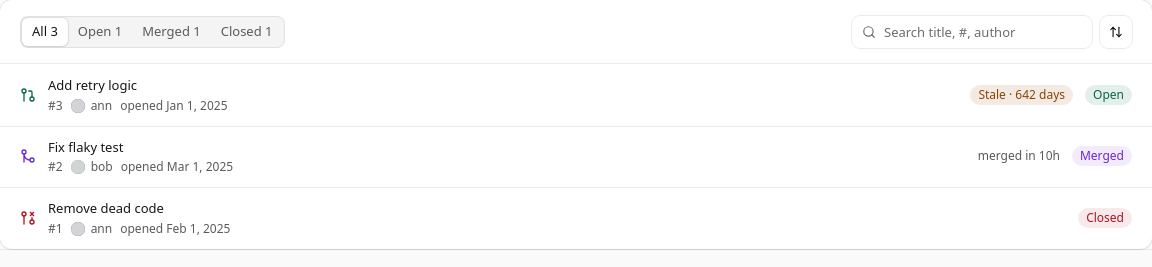
Test case: PullTable › searches by title, number and author
Type "dead" into the search field.
click(972, 32); type("dead")  # box x1=852 y1=16 x2=1092 y2=48
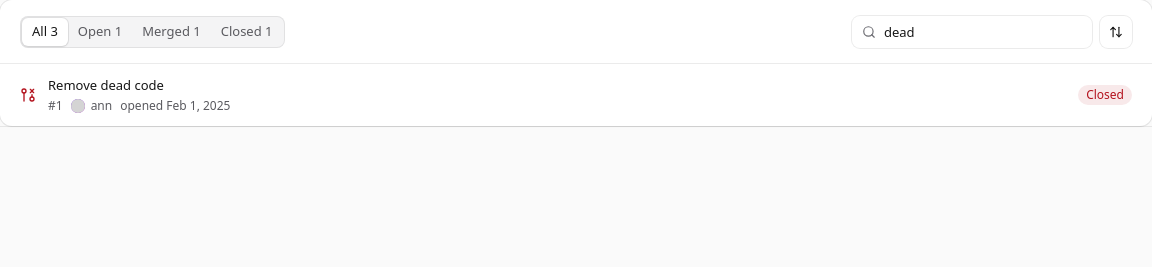
expect the number of links is 1: met, box x1=48 y1=76 x2=164 y2=94
Replace the text in the search field with "bob" at [972, 32], box x1=852 y1=16 x2=1092 y2=48
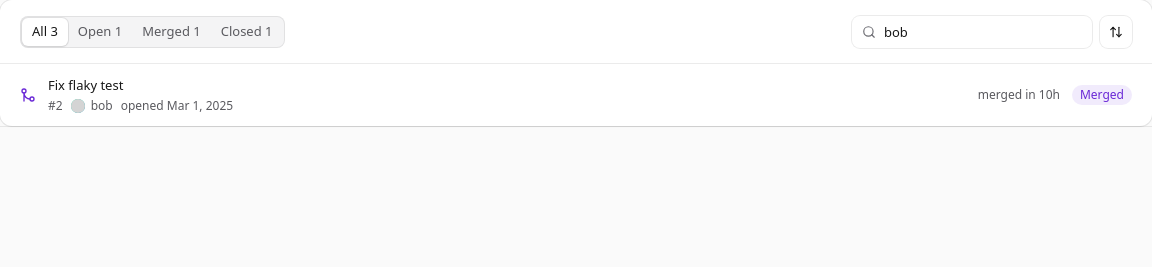
expect the link "Fix flaky test" is shown: met, box x1=48 y1=76 x2=123 y2=94
Replace the text in the search field with "nothing-matches" at [972, 32], box x1=852 y1=16 x2=1092 y2=48
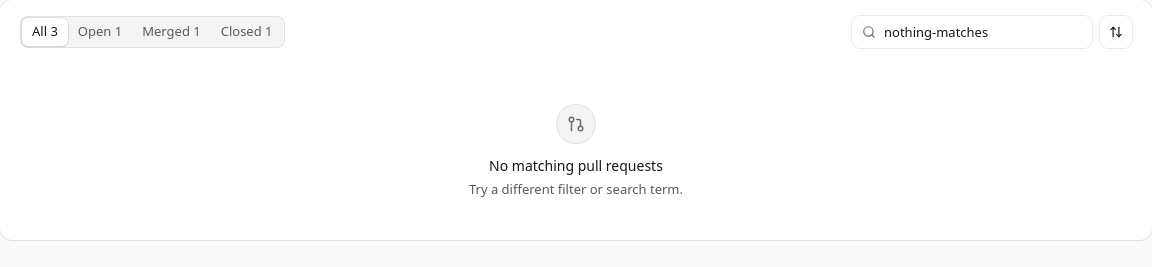
expect the text "No matching pull requests" is shown: met, box x1=489 y1=156 x2=663 y2=176
